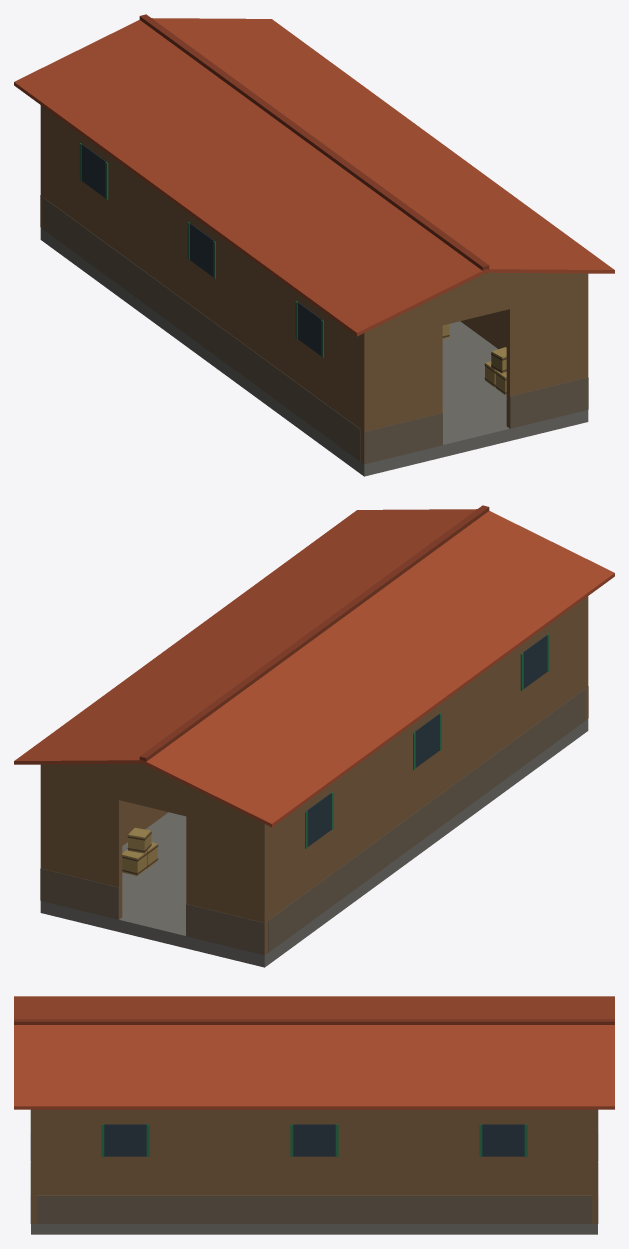
File: tulha_a.glb
3 views of the same model, one above another, from view 1: azimuth 30°, elevation 25°; view 2: azimuth 150°, elevation 25°; view 3: azimuth 270°, elevation 25° (orthographic). The views are drawn at different scales.
Parts seen in each view (by area): view 1: tulha_a; view 2: tulha_a; view 3: tulha_a.
Part boxes in pixels (box(x1,y1,x2,y2)): tulha_a: box(14, 14, 614, 476); tulha_a: box(14, 505, 614, 967); tulha_a: box(14, 996, 614, 1234).
Bounding box in the file's own units: 9.2 × 6.48 × 21.2.
